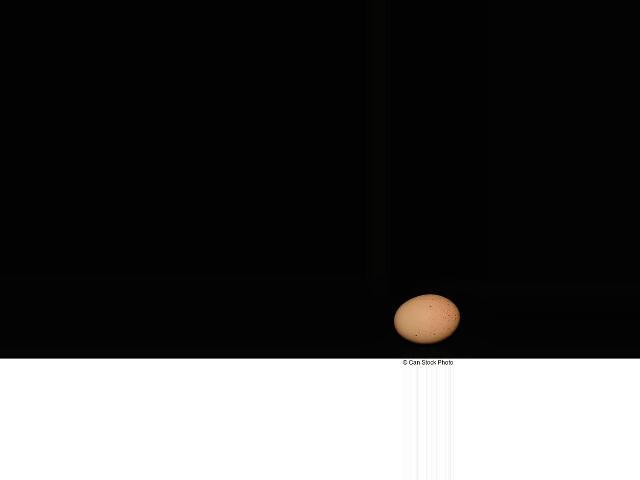egg: (394, 295, 460, 345)
